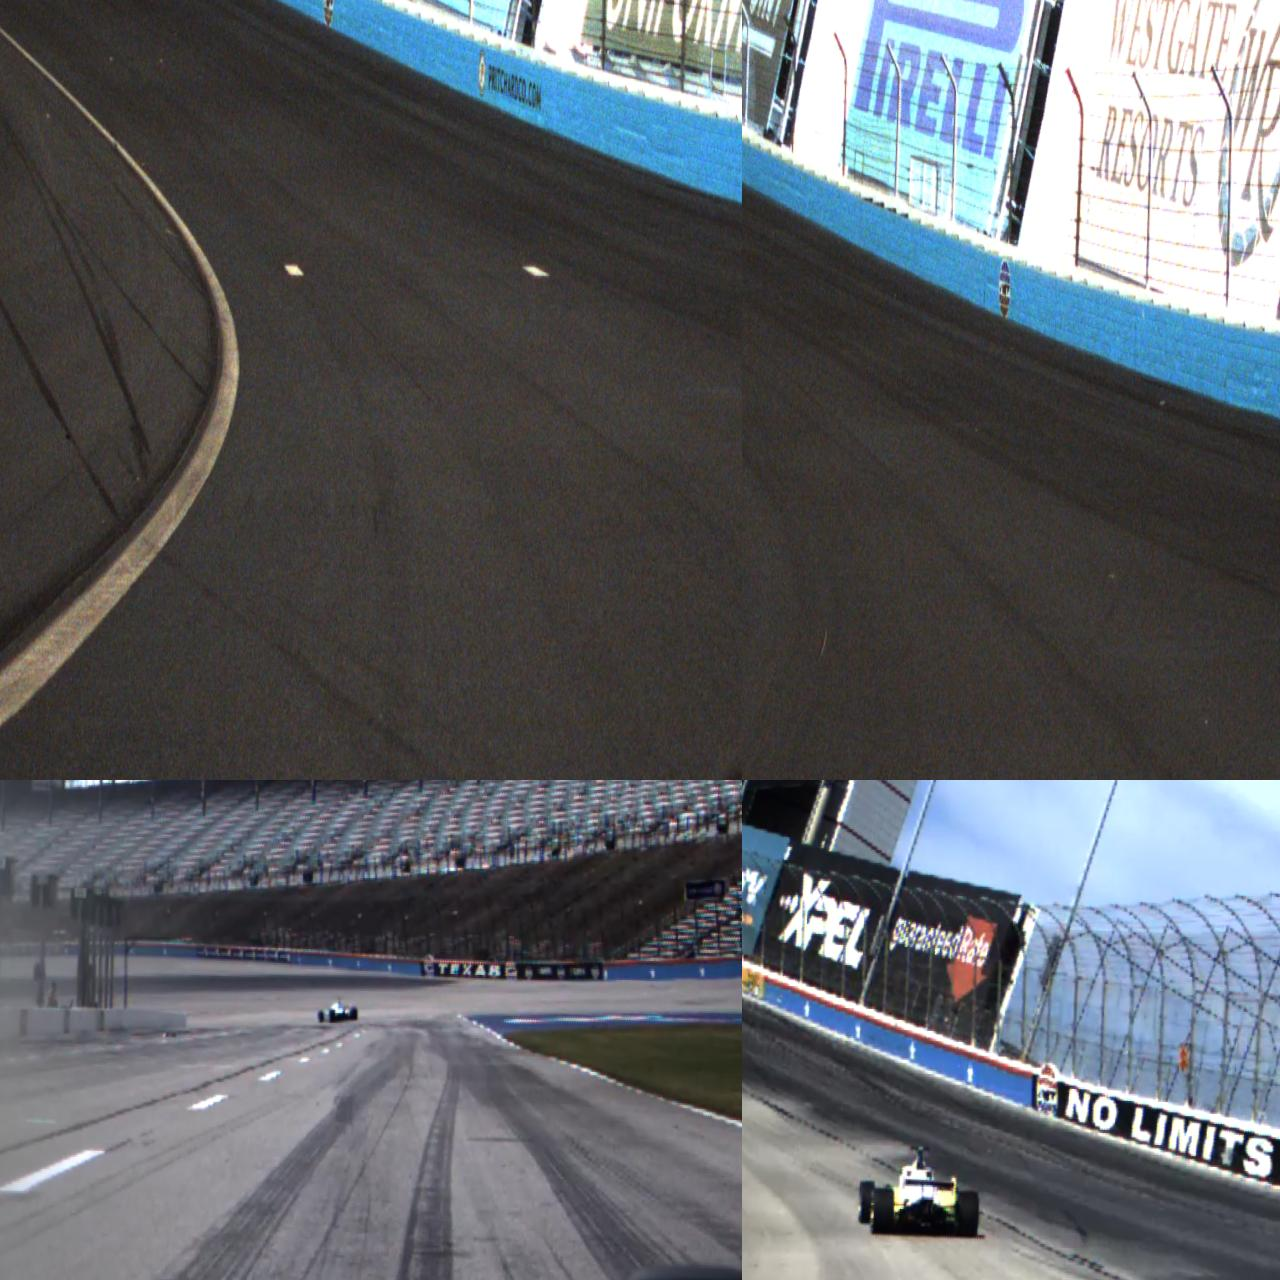AV: (857, 1143, 981, 1238), (318, 996, 358, 1023)
Wheel: (956, 1190, 980, 1235), (871, 1189, 893, 1235), (858, 1180, 874, 1224), (349, 1006, 356, 1020), (316, 1010, 324, 1022), (329, 1009, 335, 1022)
